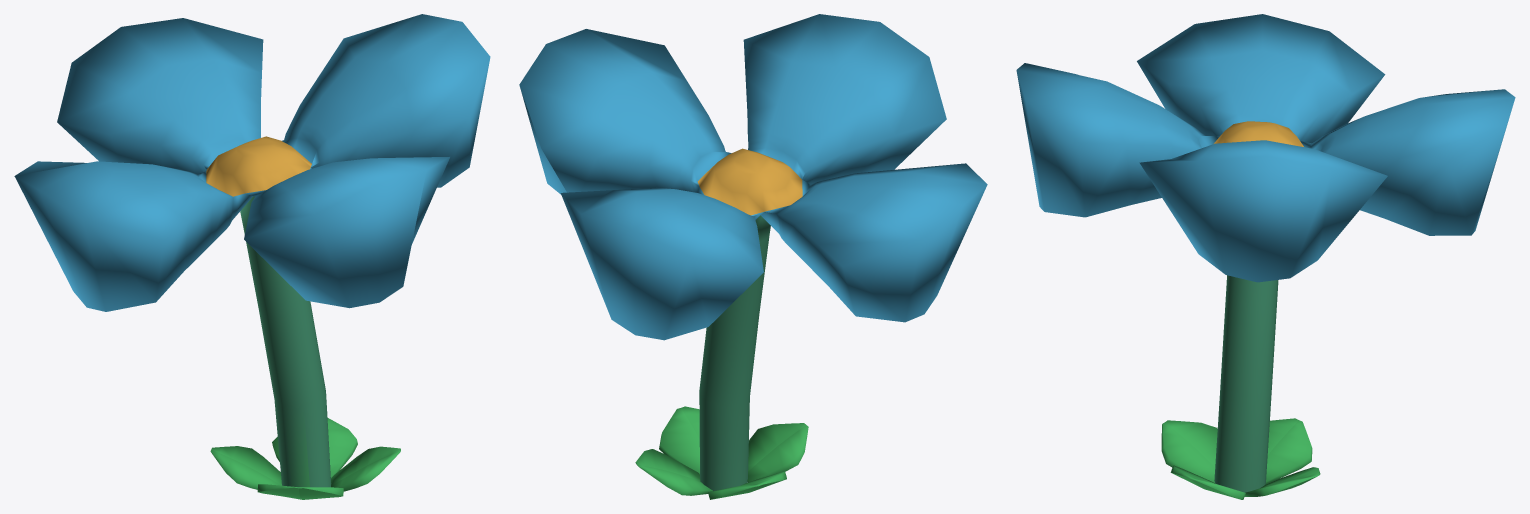
Rendered from BlueFlower.fbx.
The picture shows the model from 3 angles, left to right: view 1: azimuth 30°, elevation 25°; view 2: azimuth 150°, elevation 25°; view 3: azimuth 270°, elevation 25°; orthographic projection. The views are drawn at different scales.
Visible parts, largest first — view 1: BlueFlower.114; view 2: BlueFlower.114; view 3: BlueFlower.114.
Boxes of the visible parts, <box> form: BlueFlower.114: <box>14,14,490,499</box>; BlueFlower.114: <box>519,14,987,499</box>; BlueFlower.114: <box>1016,14,1515,499</box>.
Size of the model in its own units: 102 by 96 by 105.
